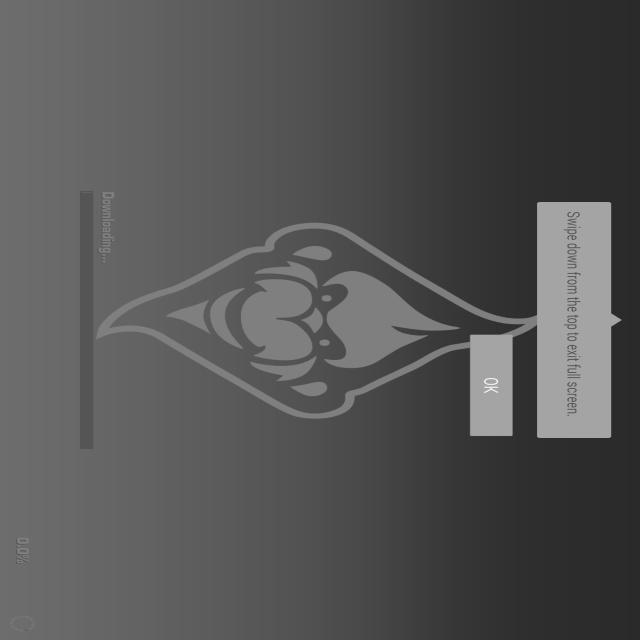Button: (465, 332, 522, 440)
ProgressBar: (71, 186, 122, 458)
TextView: (563, 208, 582, 420)
